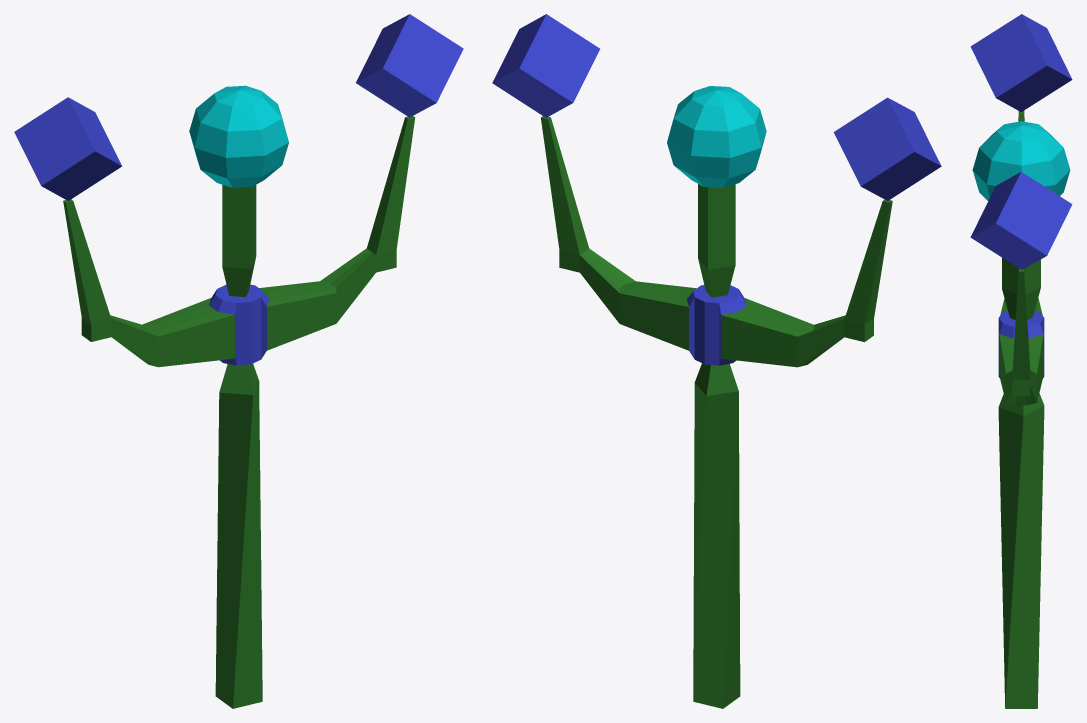
Rendered from Plant2.fbx.
3 views of the same model, side by side, from view 1: azimuth 30°, elevation 25°; view 2: azimuth 150°, elevation 25°; view 3: azimuth 270°, elevation 25° (orthographic). The views are drawn at different scales.
Visible parts, largest first — view 1: TeslaControl, Plant2; view 2: TeslaControl, Plant2; view 3: Plant2, TeslaControl.
Part boxes in pixels (x1,y1,x2,y2): TeslaControl: (14,14,463,367); Plant2: (189,85,288,708); TeslaControl: (492,14,941,367); Plant2: (667,86,766,708); Plant2: (972,121,1070,708); TeslaControl: (970,14,1072,405).
Size of the model in its own units: 1.42 by 2.06 by 0.313.
